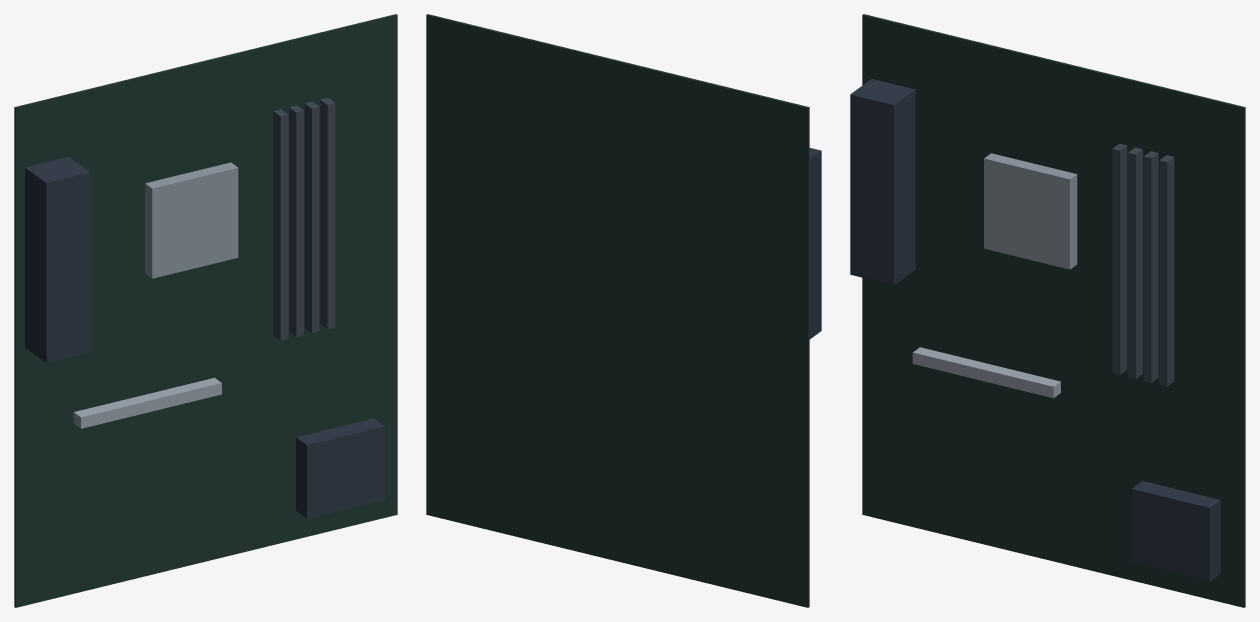
File: retail-msi-mag-b850-tomahawk-max-wifi.glb
3 views of the same model, side by side, from view 1: azimuth 30°, elevation 25°; view 2: azimuth 150°, elevation 25°; view 3: azimuth 330°, elevation 25° (orthographic).
Visible parts, largest first — view 1: PCB, DIMM slot (×4), I/O heatsink, Socket envelope, Chipset heatsink, PCIe slot; view 2: PCB, I/O heatsink; view 3: PCB, DIMM slot (×4), I/O heatsink, Socket envelope, Chipset heatsink, PCIe slot.
Boxes of the visible parts, box(x1,y1,x2,y2) form: PCB: box(14, 14, 397, 607); DIMM slot (×4): box(273, 98, 335, 340); I/O heatsink: box(25, 156, 90, 363); Socket envelope: box(145, 162, 238, 278); Chipset heatsink: box(296, 418, 385, 518); PCIe slot: box(73, 377, 221, 428); PCB: box(426, 14, 809, 607); I/O heatsink: box(809, 148, 821, 339); PCB: box(862, 14, 1245, 607); DIMM slot (×4): box(1112, 143, 1174, 386); I/O heatsink: box(850, 79, 915, 285); Socket envelope: box(984, 153, 1077, 269); Chipset heatsink: box(1131, 481, 1220, 581); PCIe slot: box(912, 347, 1060, 398).
Size of the model in its own units: 0.244 by 0.305 by 0.0253.
